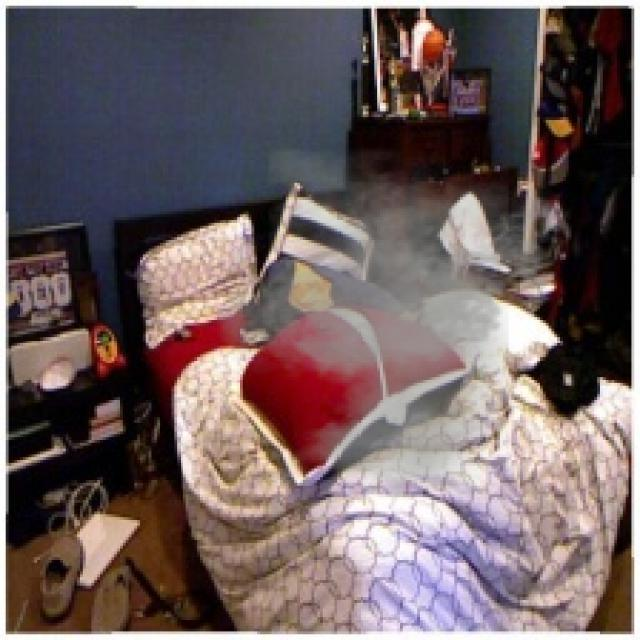Smoke: (202, 148, 574, 498)
